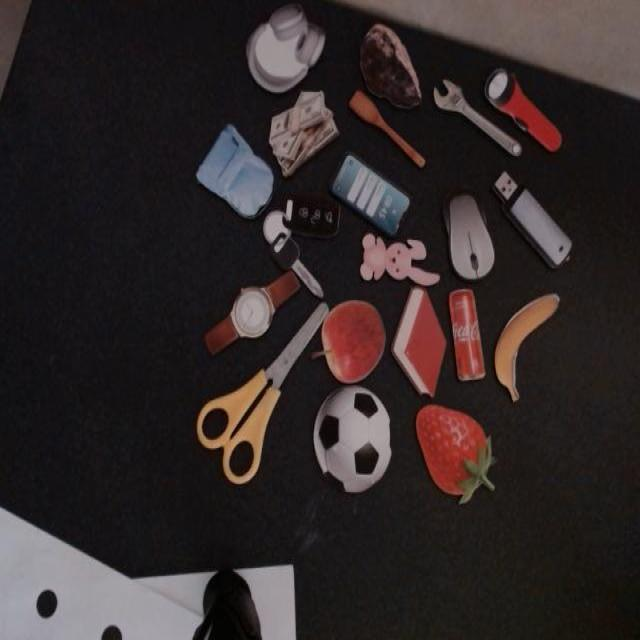Other Objects: (195, 301, 329, 484), (190, 118, 283, 239), (252, 178, 342, 296), (485, 164, 576, 275), (478, 59, 568, 163), (315, 386, 391, 492), (204, 271, 299, 354), (431, 182, 501, 291), (346, 86, 428, 176), (246, 2, 326, 94), (328, 151, 410, 237), (494, 294, 559, 402), (434, 79, 521, 155), (310, 299, 386, 384), (269, 91, 338, 177), (358, 21, 421, 109), (359, 232, 440, 287), (448, 288, 485, 381)
